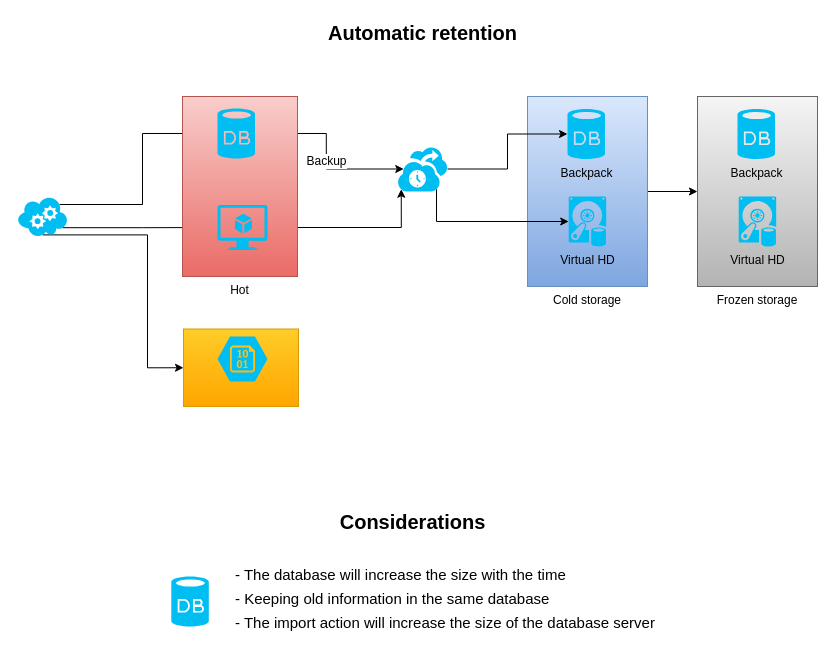
This 835x653 diagram has some shape labels left out. Each missing label, with the centre of its shape:
Blob storage: the point at 242,358
InfluxDb: the point at 242,227
SQL Server: the point at 235,133
